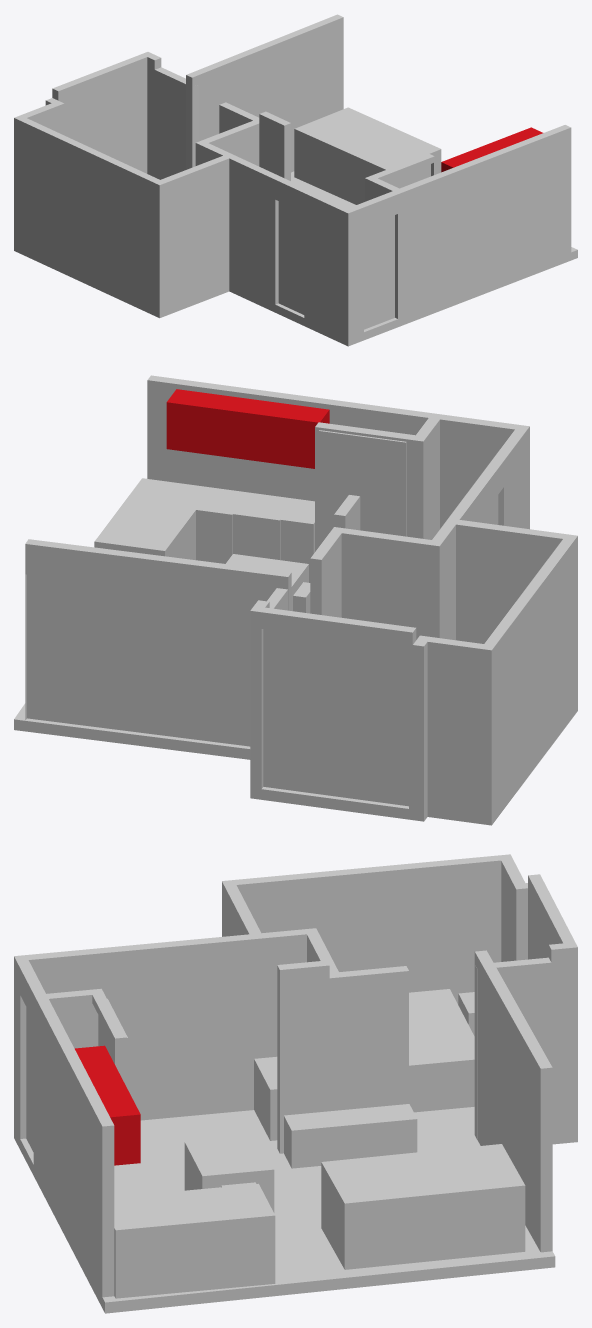
Rendered from alert.glb.
3 views of the same model, one above another, from view 1: azimuth 30°, elevation 25°; view 2: azimuth 150°, elevation 25°; view 3: azimuth 270°, elevation 25° (orthographic). The views are drawn at different scales.
Visible parts, largest first — view 1: Wall13.001, Wall0.001, Wall15.001, Wall11.001, Sofa0.001, Door2.001, Door3.001, Floor0.001, Wall3.001, Wall14.001, Wall4.001, Door1.001 (+11 smaller); view 2: Door2.001, Door3.001, Wall0.001, Wall13.001, Wall14.001, Storage6.001, Wall5.001, Wall11.001, Wall8.001, Storage0.001, Floor0.001, Wall1.001 (+16 smaller); view 3: Wall0.001, Floor0.001, Wall15.001, Sofa0.001, Storage3.001, Wall13.001, Wall10.001, Door2.001, Wall9.001, Bed0.001, Storage4.001, Wall4.001 (+16 smaller).
Part boxes in pixels (x1,y1,x2,y2): Wall13.001: [400, 125, 571, 315]; Wall0.001: [14, 115, 159, 307]; Wall15.001: [224, 154, 348, 335]; Wall11.001: [153, 153, 235, 309]; Sofa0.001: [294, 107, 441, 204]; Door2.001: [198, 40, 343, 172]; Door3.001: [62, 70, 147, 173]; Floor0.001: [14, 171, 577, 346]; Wall3.001: [342, 188, 405, 338]; Wall14.001: [186, 14, 343, 169]; Wall4.001: [147, 54, 198, 179]; Door1.001: [364, 215, 394, 329]; Door2.001: [27, 574, 255, 746]; Door3.001: [263, 629, 408, 806]; Wall0.001: [480, 539, 574, 814]; Wall13.001: [147, 375, 431, 501]; Wall14.001: [25, 539, 291, 719]; Storage6.001: [166, 389, 329, 468]; Wall5.001: [417, 635, 483, 813]; Wall11.001: [445, 519, 577, 704]; Wall8.001: [331, 527, 431, 639]; Storage0.001: [319, 430, 406, 546]; Floor0.001: [14, 700, 577, 825]; Wall1.001: [250, 606, 416, 809]; Wall0.001: [234, 854, 512, 1004]; Floor0.001: [14, 1107, 577, 1313]; Wall15.001: [26, 934, 263, 1118]; Sofa0.001: [321, 1144, 525, 1269]; Storage3.001: [114, 1183, 275, 1298]; Wall13.001: [36, 999, 114, 1297]; Wall10.001: [329, 966, 408, 1111]; Door2.001: [477, 989, 540, 1251]; Wall9.001: [277, 960, 329, 1153]; Bed0.001: [409, 989, 474, 1112]; Storage4.001: [284, 1104, 417, 1168]; Wall4.001: [474, 943, 565, 1139].
Size of the model in its own units: 8.58 by 2.81 by 7.37.
